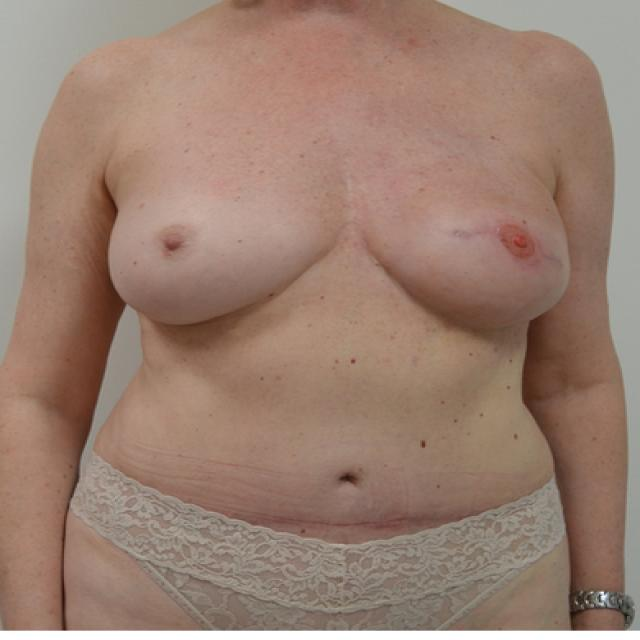Seno herido: (354, 147, 579, 337)
Seno ileso: (100, 148, 344, 334)
